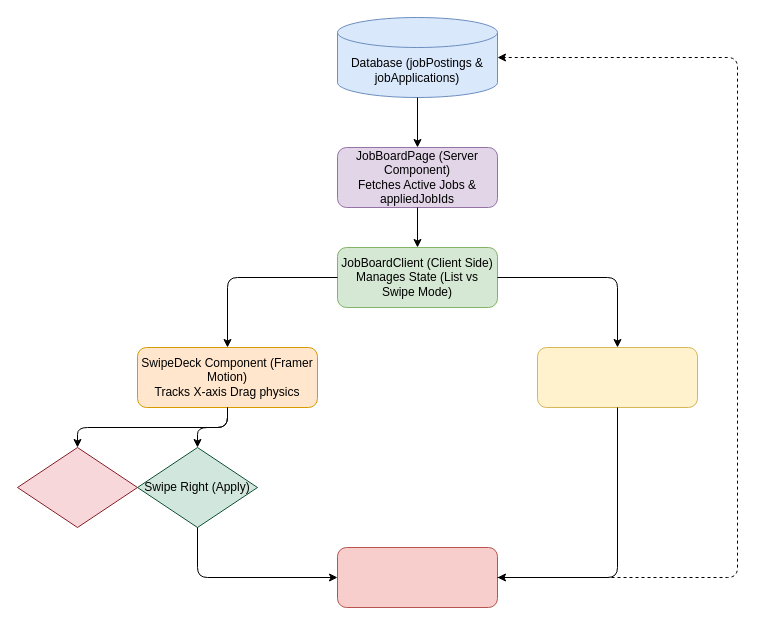
This 763x625 diagram has some shape labels left out. Each missing label, with the centre of its shape:
"List View Component Standard Grid" goes at (x=617, y=377).
"Server Action: applyJob() Writes to Application DB" goes at (x=417, y=577).
"Swipe Left (Skip)" goes at (x=77, y=487).
